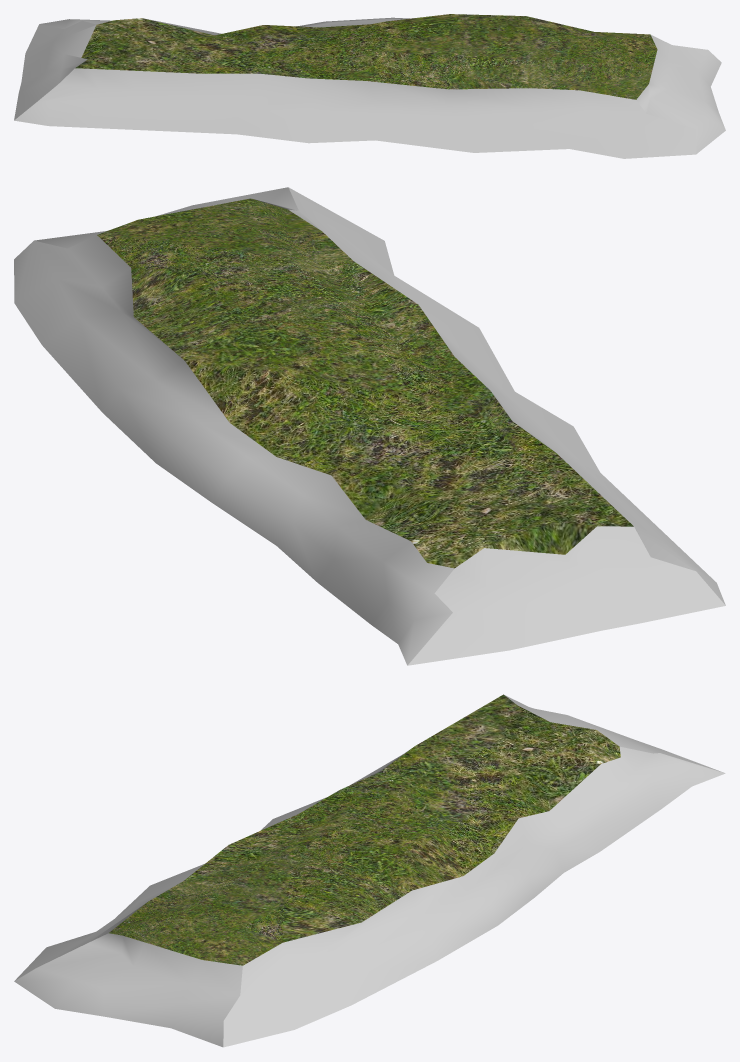
The model's file is DirtMound.fbx.
3 renders of one model, top to bottom at view 1: azimuth 30°, elevation 25°; view 2: azimuth 150°, elevation 25°; view 3: azimuth 270°, elevation 25°, orthographic. The views are drawn at different scales.
Visible parts, largest first — view 1: DirtMound; view 2: DirtMound; view 3: DirtMound.
Boxes of the visible parts, bbox=[...] form: DirtMound: bbox=[14, 14, 725, 158]; DirtMound: bbox=[14, 187, 725, 665]; DirtMound: bbox=[14, 694, 725, 1047].
Size of the model in its own units: 41.77 by 3.84 by 36.58.
